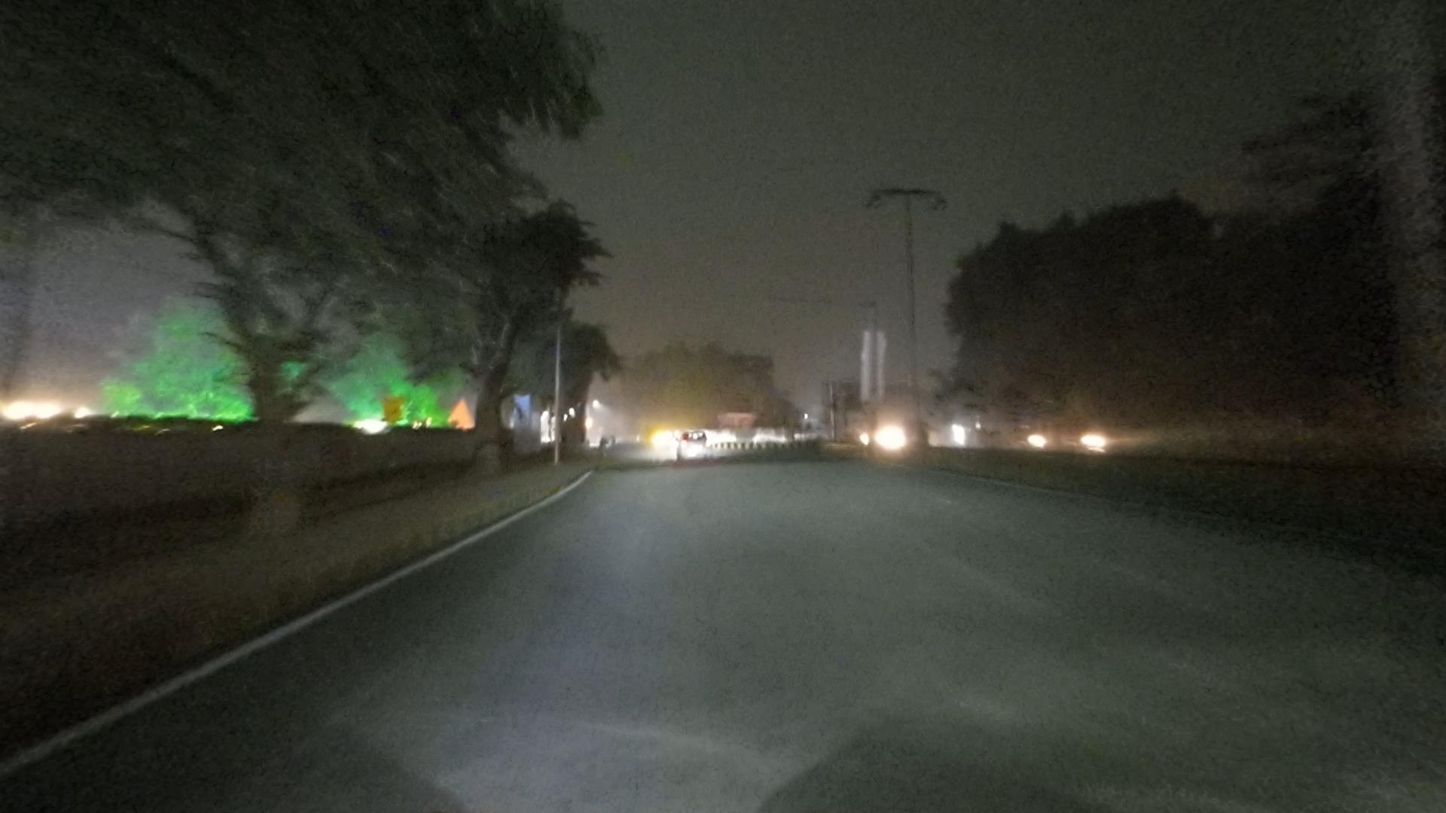streetlight: (910, 185, 947, 212), (866, 184, 902, 210)
